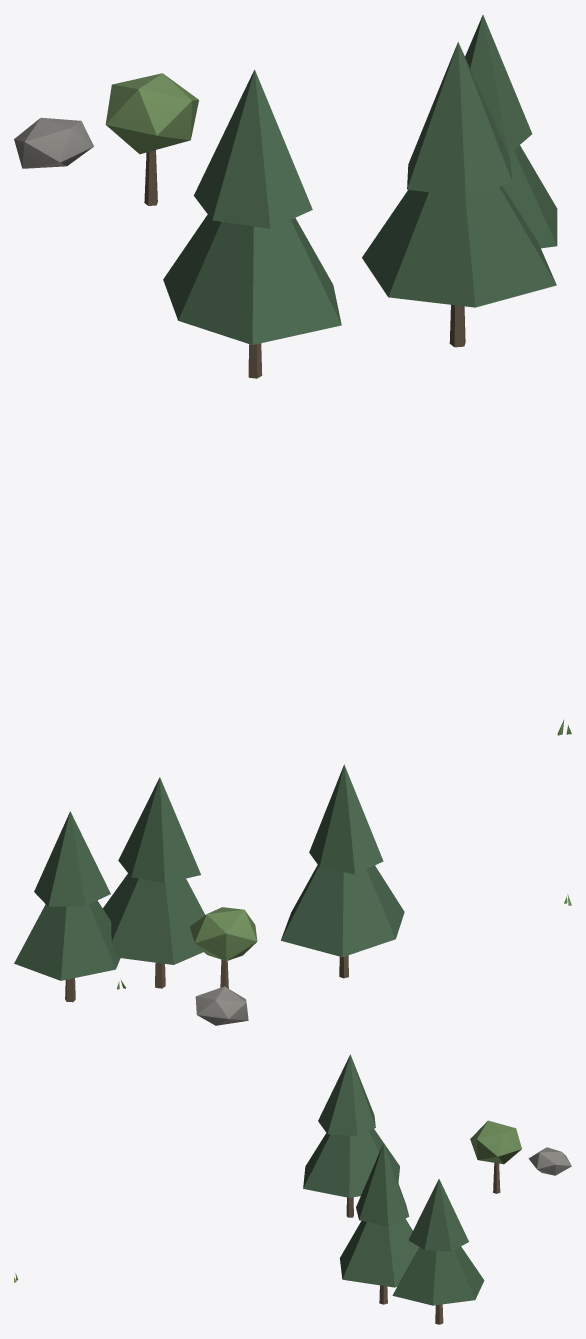
The model's file is arch_land_scatter_c23_19_lod1.glb.
3 views of the same model, one above another, from view 1: azimuth 30°, elevation 25°; view 2: azimuth 150°, elevation 25°; view 3: azimuth 270°, elevation 25° (orthographic). The views are drawn at different scales.
Parts seen in each view (by area): view 1: arch_land_scatter_c23_19_lod1; view 2: arch_land_scatter_c23_19_lod1; view 3: arch_land_scatter_c23_19_lod1.
Part boxes in pixels (bbox=[...]): arch_land_scatter_c23_19_lod1: bbox=[14, 15, 571, 735]; arch_land_scatter_c23_19_lod1: bbox=[14, 764, 571, 1025]; arch_land_scatter_c23_19_lod1: bbox=[14, 1054, 571, 1324].
Bounding box in the file's own units: 21.27 × 19.25 × 42.57.
